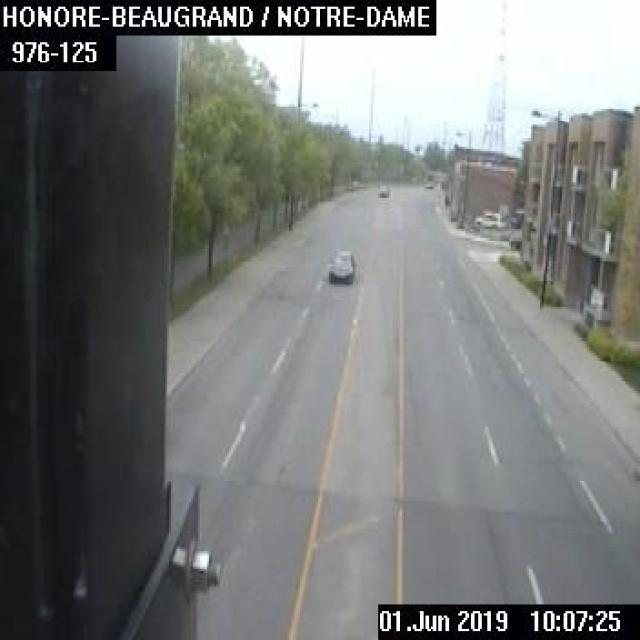vehicle: (325, 248, 354, 284), (473, 210, 504, 228), (375, 182, 389, 195)
